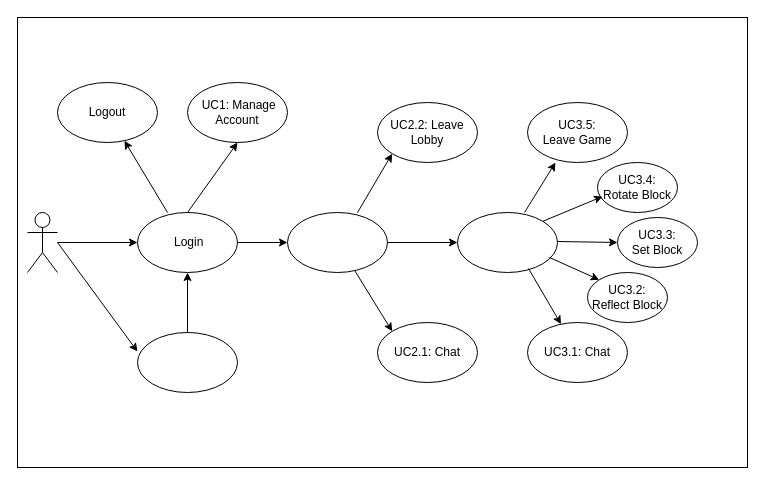
The diagram is 765 pixels wide and 485 high, and some of its shapes have lost their labels. Each missing label, with the centre of its shape:
Sign Up: point 187,362
UC2: Join Lobby: point 337,242
UC3: Start Game Session: point 507,242
